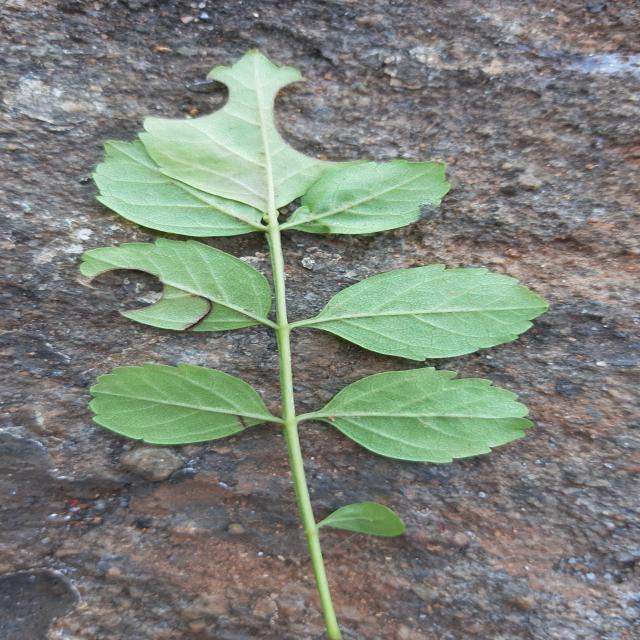tecoma: (80, 51, 547, 639)
